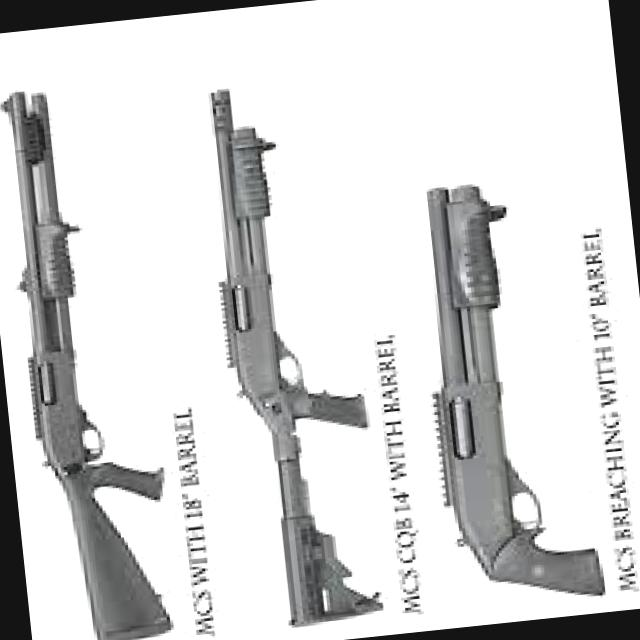long weapon: (171, 69, 410, 633), (406, 158, 621, 628), (0, 72, 177, 640)
